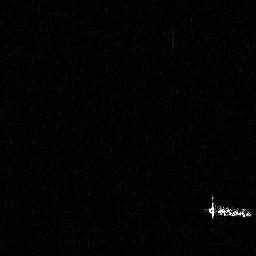ship: (201, 191, 253, 227)
